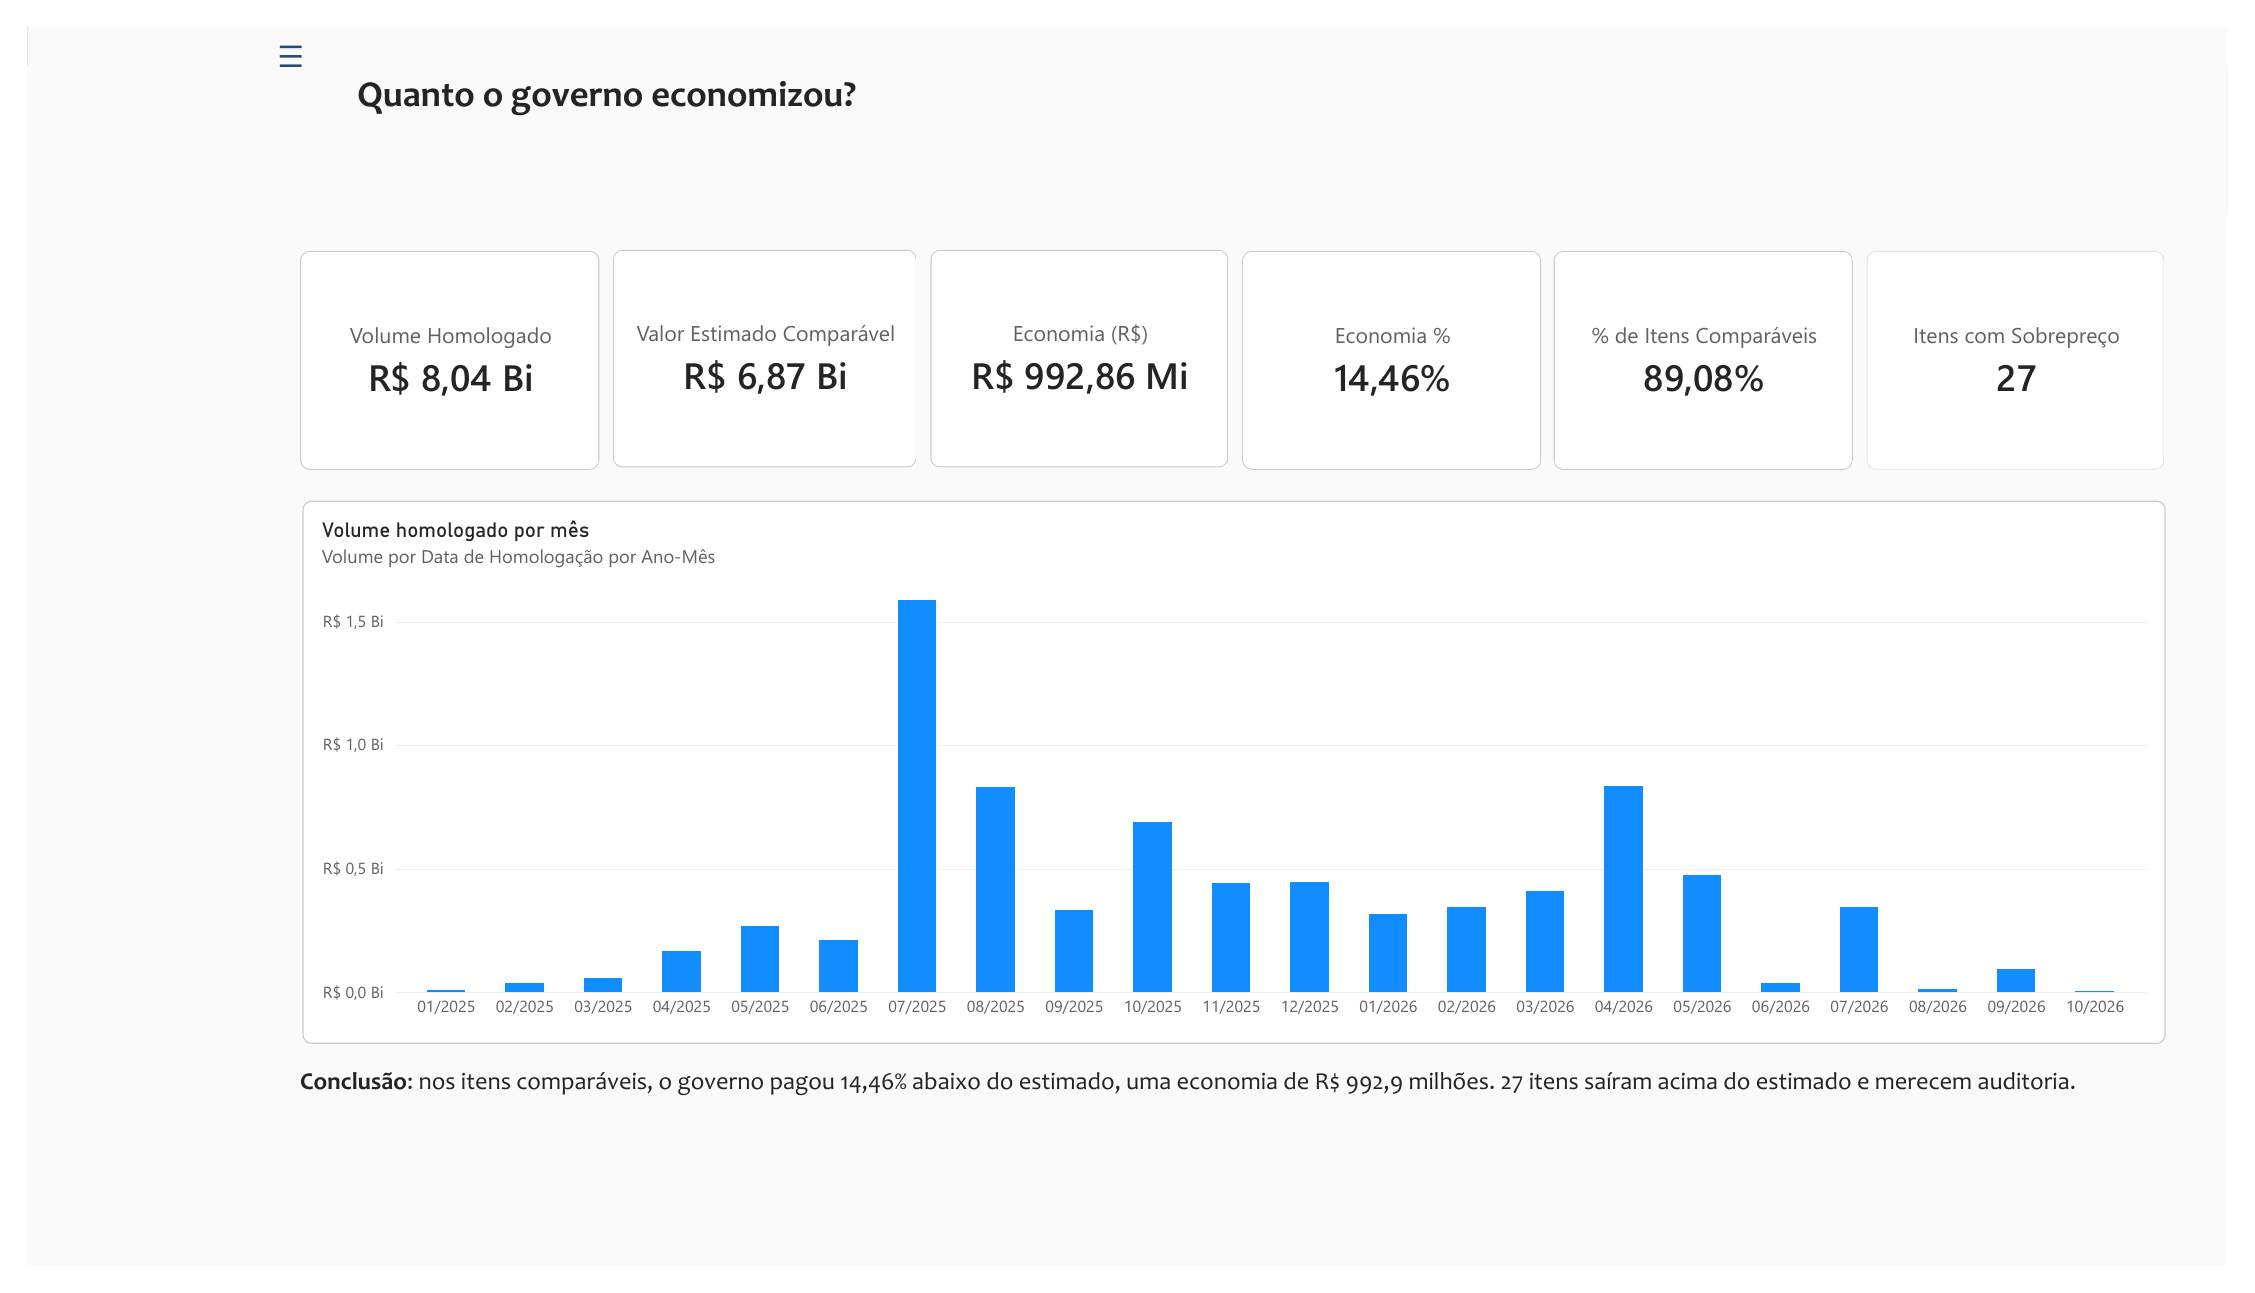

The page's visual inventory and layout, read from the dashboard file:
{"tool":"powerbi","page":{"name":"P1 Economia","canvas":[1920,1080],"ordinal":0},"visuals":[{"type":"textbox","box":[288,39.4,443.2,64.6],"z":0},{"type":"cardVisual","fields":{"Data":["Medidas.Volume Homologado"]},"box":[238.3,195.4,260.6,190.3],"z":1000},{"type":"cardVisual","fields":{"Data":["Medidas.Valor Estimado Comparável"]},"box":[510.5,193.7,265.7,190.3],"z":2000},{"type":"cardVisual","fields":{"Data":["Medidas.Economia (R$)"]},"box":[787.9,193.7,260.6,190.3],"z":3000},{"type":"cardVisual","fields":{"Data":["Medidas.Economia %"]},"box":[1060.1,195.4,260.6,190.3],"z":4000},{"type":"cardVisual","fields":{"Data":["Medidas.% de Itens Comparáveis"]},"box":[1332.3,195.4,260.6,190.3],"z":5000},{"type":"clusteredColumnChart","title":"Volume homologado por mês","fields":{"Category":["Calendario.Ano-Mês"],"Y":["Medidas.Volume por Data de Homologação"]},"box":[240,413.1,1626,474],"z":6000},{"type":"cardVisual","fields":{"Data":["Medidas.Itens com Sobrepreço"]},"box":[1604.6,195.4,260.6,190.3],"z":7000},{"type":"textbox","box":[238.3,906.9,1611.4,101.1],"z":8000},{"type":"actionButton","title":"Botao abrir","box":[200.6,0,58.3,39.4],"z":9000}]}

Visuals, with their boxes in screenshot pixels (x1, y1, x2, y2), scaled from the page's 1920x1080 canvas onto the 2255x1293 screenshot:
textbox: detection(338, 47, 859, 125)
cardVisual - Medidas.Volume Homologado: detection(280, 234, 586, 462)
cardVisual - Medidas.Valor Estimado Comparável: detection(600, 232, 912, 460)
cardVisual - Medidas.Economia (R$): detection(925, 232, 1231, 460)
cardVisual - Medidas.Economia %: detection(1245, 234, 1551, 462)
cardVisual - Medidas.% de Itens Comparáveis: detection(1565, 234, 1871, 462)
"Volume homologado por mês" clusteredColumnChart: detection(282, 495, 2192, 1062)
cardVisual - Medidas.Itens com Sobrepreço: detection(1885, 234, 2191, 462)
textbox: detection(280, 1086, 2172, 1207)
"Botao abrir" actionButton: detection(236, 0, 304, 47)
